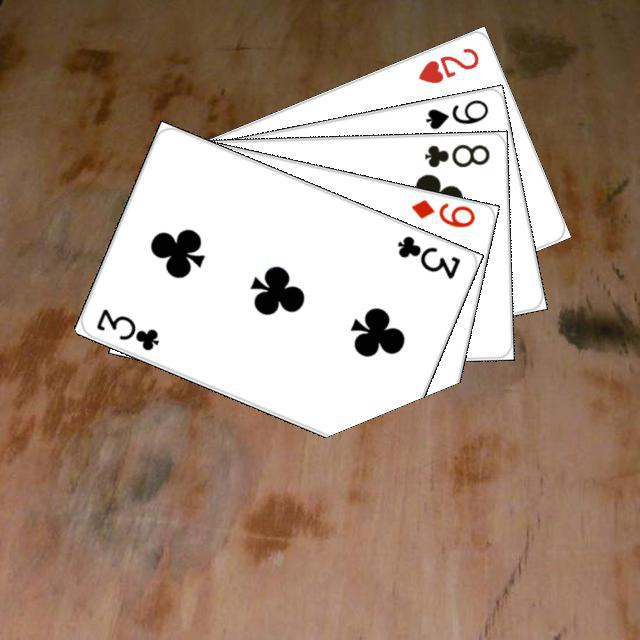2h: (413, 42, 481, 86)
3c: (392, 230, 462, 281), (91, 303, 161, 353)
8c: (419, 139, 491, 170)
9d: (406, 194, 477, 230)
9s: (421, 94, 490, 131)
